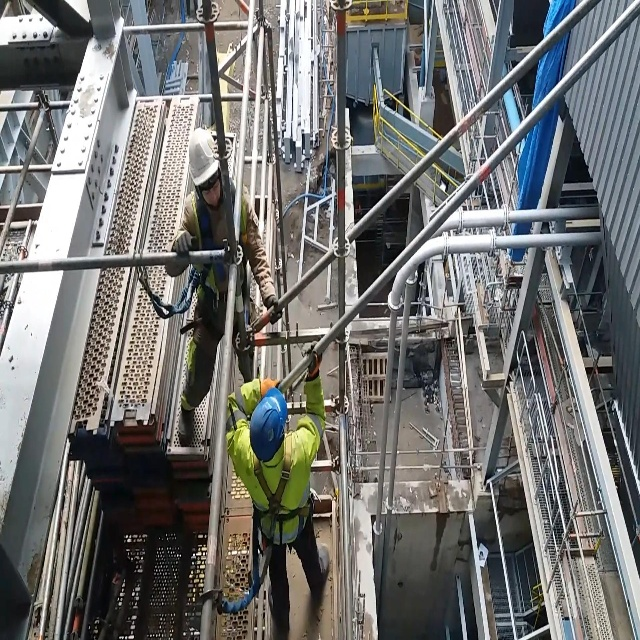Arnes_seguridad: (249, 433, 316, 567), (193, 184, 248, 324)
